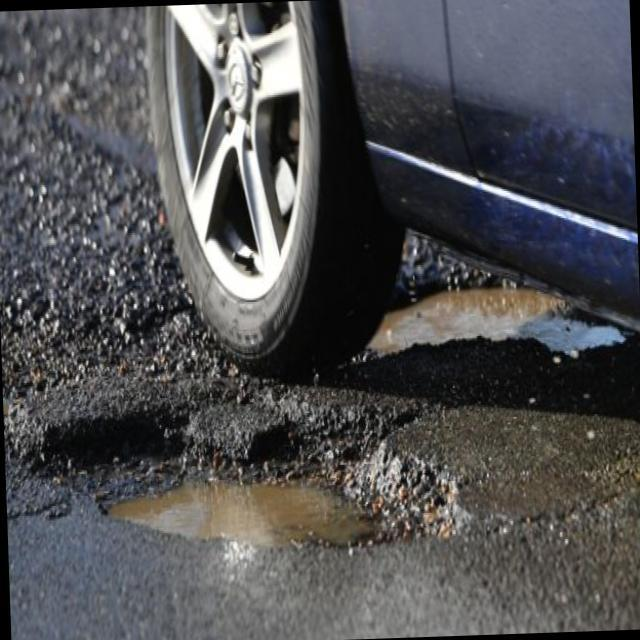Pothole: (48, 388, 392, 570), (390, 272, 572, 373)
